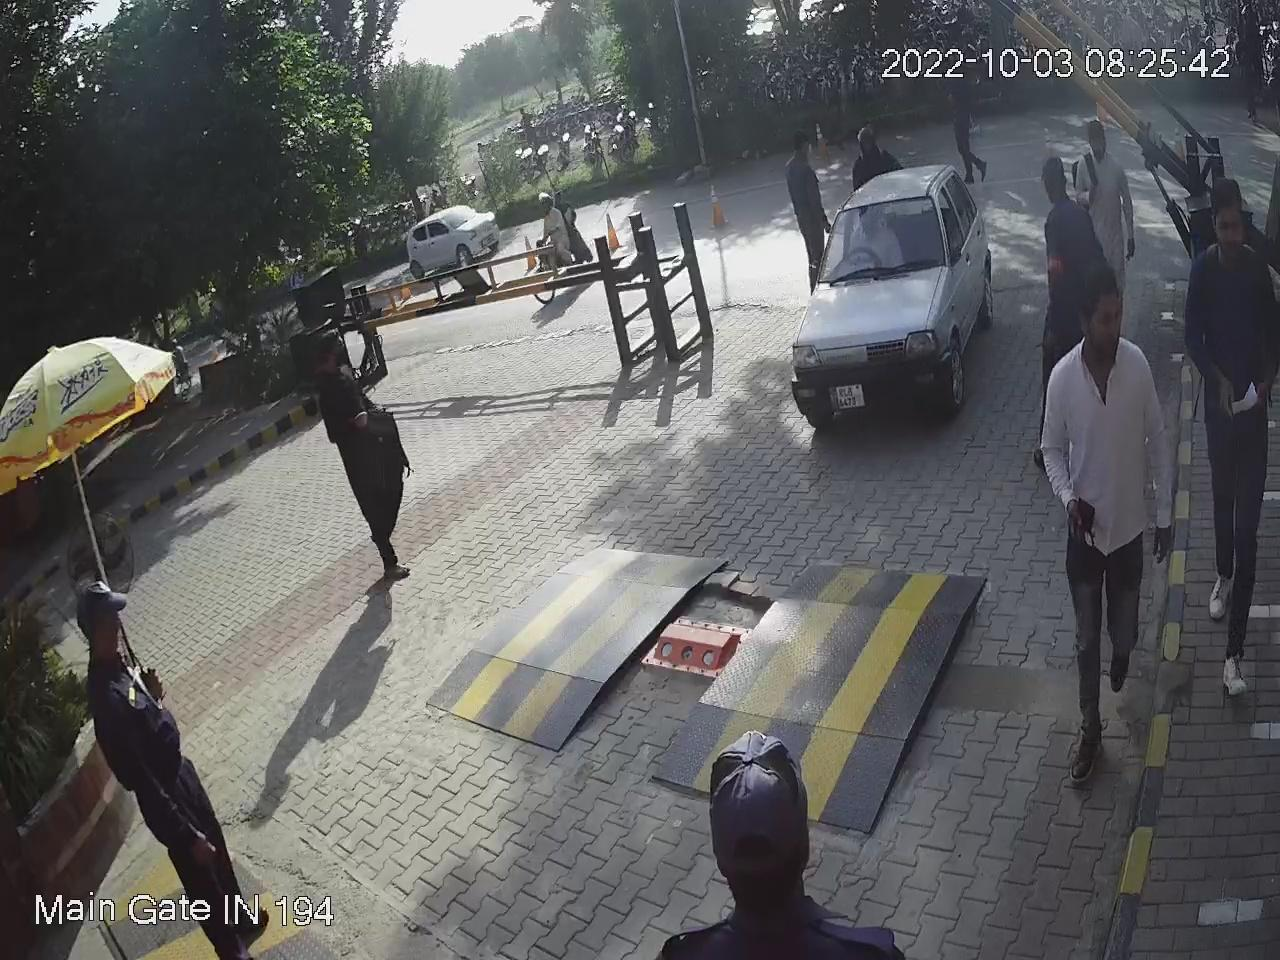windshield: (808, 190, 945, 292)
